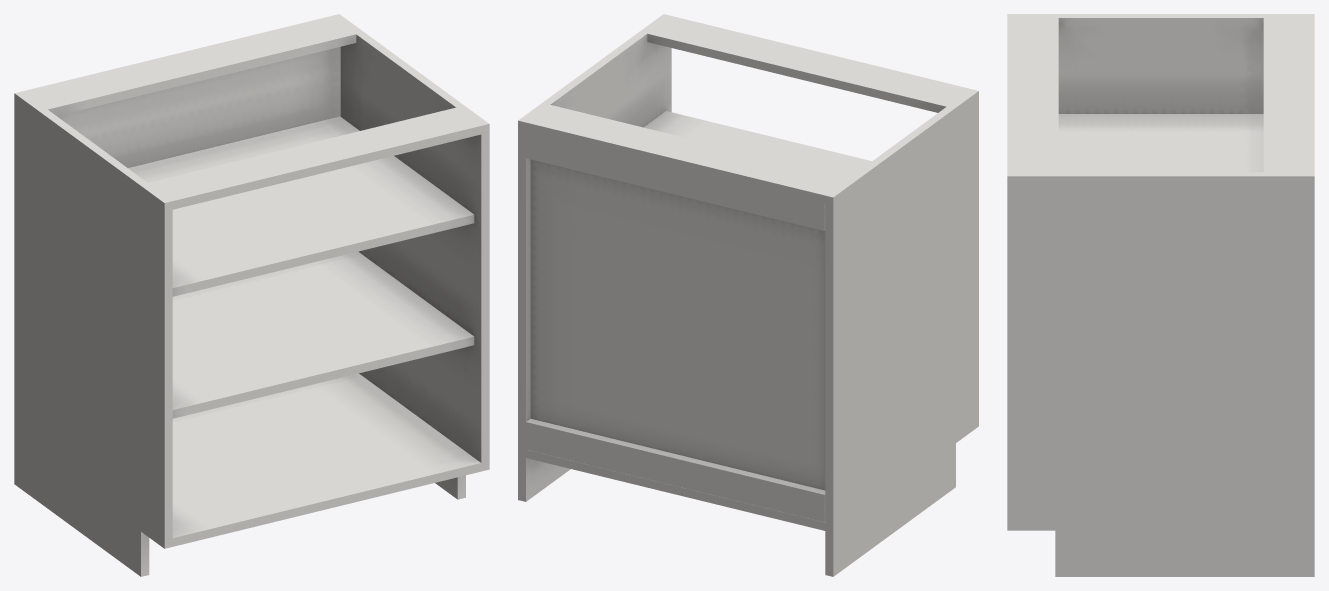
The model's file is 2-door-base-doors-off.glb.
3 views of the same model, side by side, from view 1: azimuth 30°, elevation 25°; view 2: azimuth 150°, elevation 25°; view 3: azimuth 270°, elevation 25° (orthographic). The views are drawn at different scales.
Visible parts, largest first — view 1: part_0; view 2: part_0; view 3: part_0.
Boxes of the visible parts, box(x1,y1,x2,y2) form: part_0: box(14, 14, 489, 576); part_0: box(518, 14, 978, 576); part_0: box(1007, 14, 1314, 576).
Size of the model in its own units: 0.762 by 0.8763 by 0.6096.
1 material, 1 textured.
